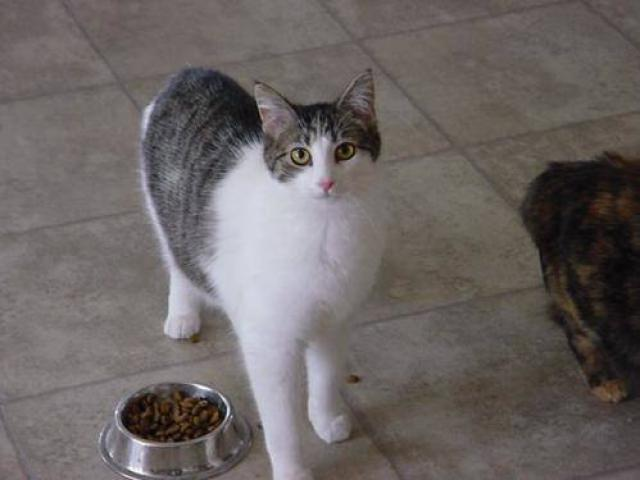cat: (134, 60, 398, 472)
